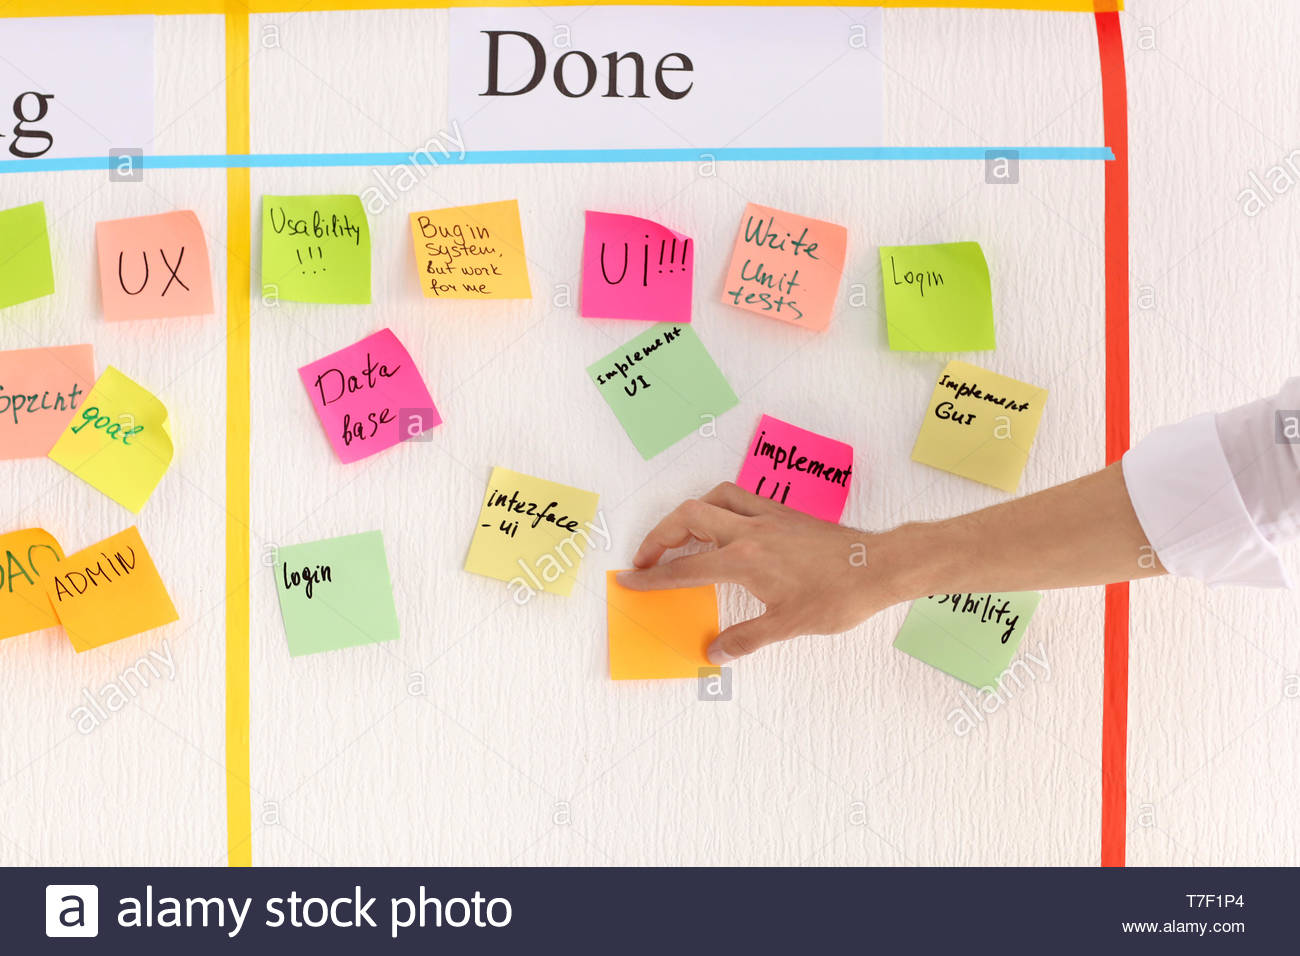stickynote: (587, 318, 741, 461), (42, 366, 177, 522), (296, 328, 442, 468), (911, 361, 1049, 496), (716, 200, 849, 338), (461, 466, 598, 600), (271, 528, 402, 658), (44, 525, 178, 652), (876, 240, 998, 358), (602, 567, 726, 681), (732, 416, 858, 527), (257, 193, 377, 308), (93, 212, 216, 320), (579, 211, 693, 326), (408, 200, 532, 300)
